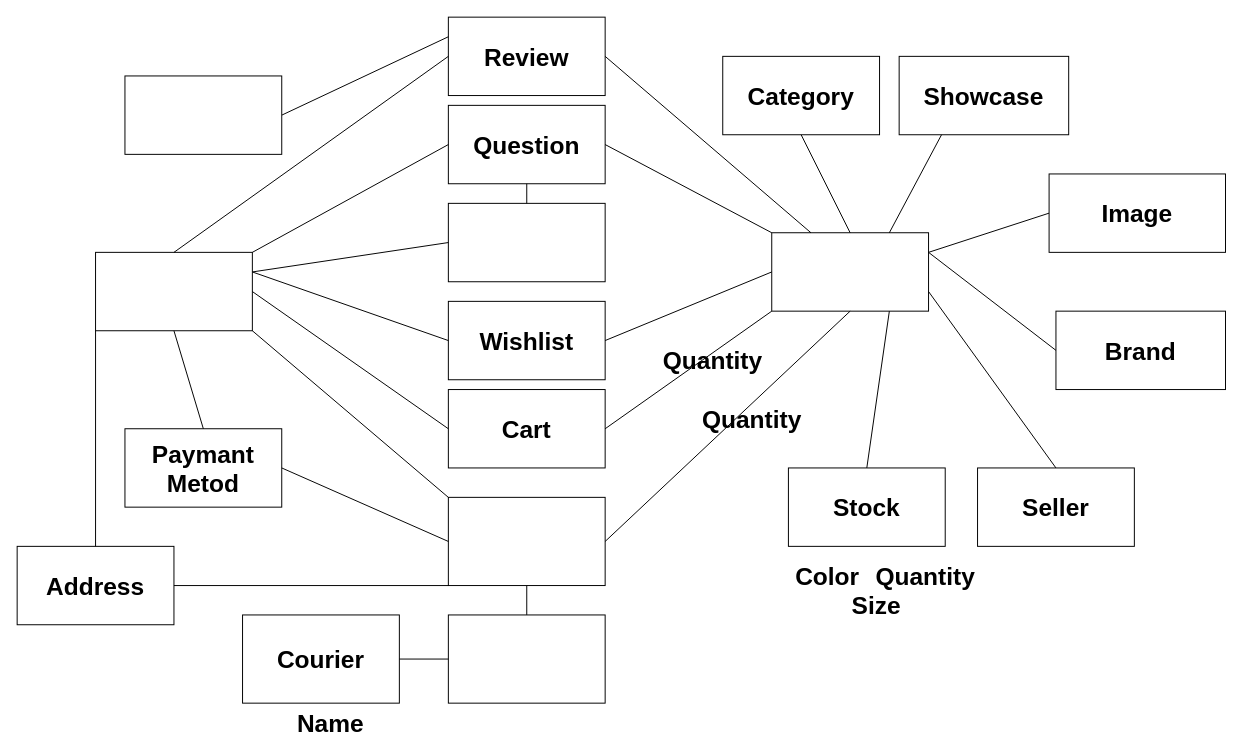
The diagram is 1243 pixels wide and 755 high, and some of its shapes have lost their labels. Each missing label, with the centre of its shape:
Answer: point 526,242
Order: point 526,541
Product: point 850,271
Review Image: point 203,114
Shipping: point 526,658
User: point 173,291
